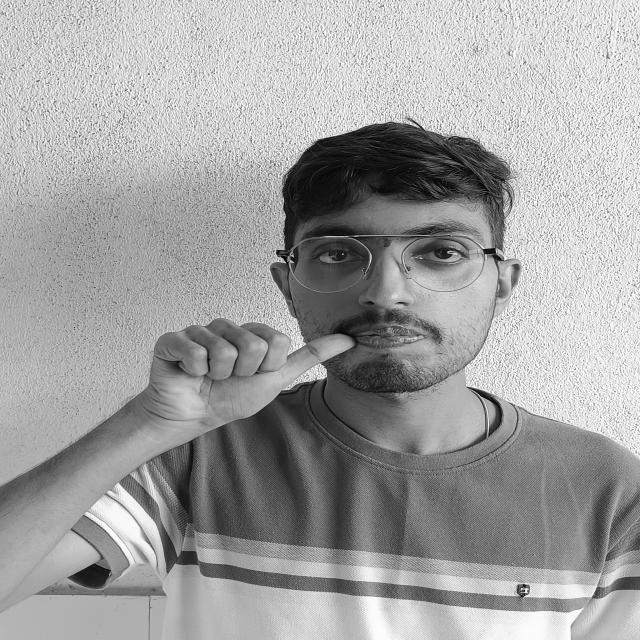Drink: (133, 313, 375, 440)
